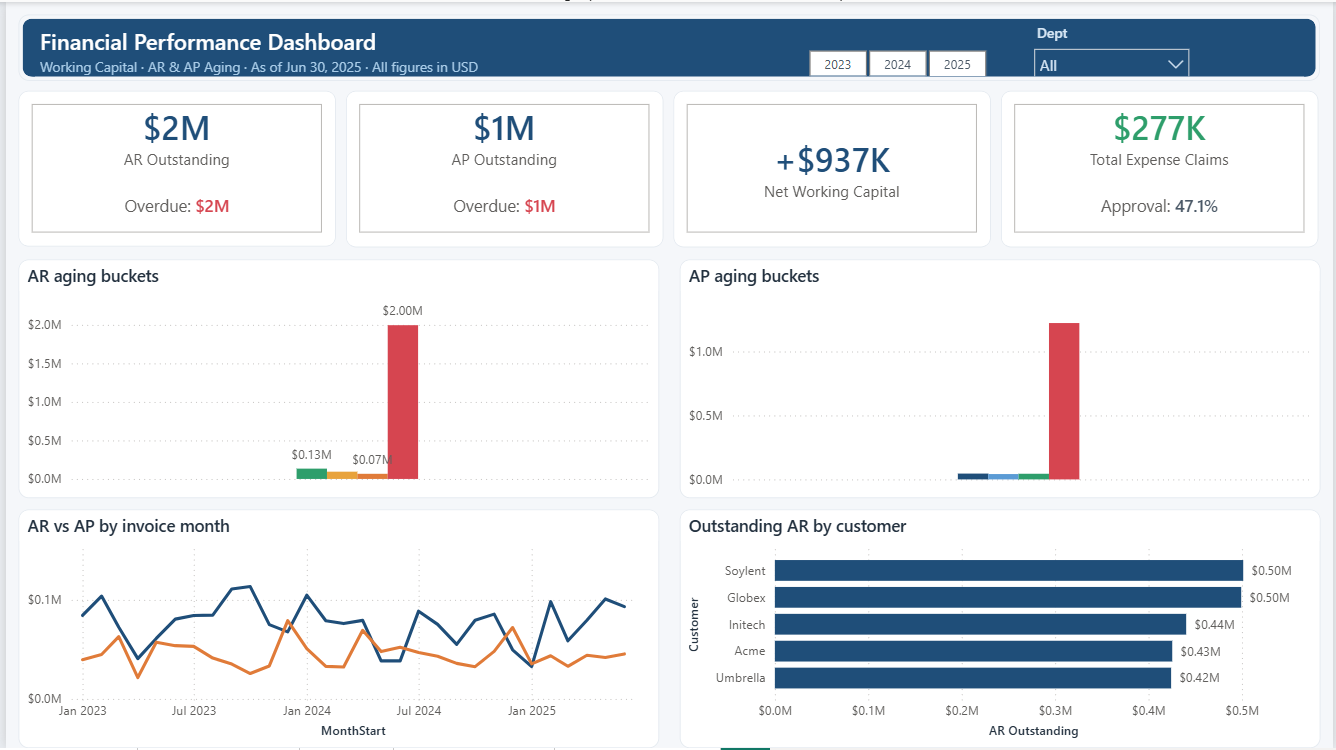

The dashboard page shown, as its layout file describes it:
{"tool":"powerbi","page":{"name":"Working Capital","canvas":[1280,720],"ordinal":3},"visuals":[{"type":"shape","box":[12,12,1256,64],"z":0},{"type":"textbox","box":[28,18,500,44],"z":1000},{"type":"slicer","fields":{"Values":["Dim_Date.Year"]},"box":[749.2,39.8,220.9,31.6],"z":2000},{"type":"textbox","box":[28,48,560,30],"z":3000},{"type":"slicer","fields":{"Values":["Dim_Department.Dept"]},"box":[982.5,15.1,170.2,56.3],"z":4000},{"type":"cardVisual","fields":{"Data":["Fact_AR.AR Outstanding"]},"box":[12.3,86,306,150],"z":5000},{"type":"cardVisual","fields":{"Data":["Fact_AP.AP Outstanding"]},"box":[328,86,306,150.9],"z":6000},{"type":"cardVisual","fields":{"Data":["Fact_AR.Net Working Capital"]},"box":[644,86,306,150.9],"z":7000},{"type":"cardVisual","fields":{"Data":["Fact_Expenses.Total Expense Claims"]},"box":[960,86,306,150.9],"z":8000},{"type":"clusteredColumnChart","title":"AR aging buckets","fields":{"Y":["Fact_AR.AR Aging Current","Fact_AR.AR Aging 1-30","Fact_AR.AR Aging 31-60","Fact_AR.AR Aging 60+"]},"box":[12,248,618,230],"z":9000},{"type":"clusteredColumnChart","title":"AP aging buckets","fields":{"Y":["Fact_AP.AP Aging Current","Fact_AP.AP Aging 1-30","Fact_AP.AP Aging 31-60","Fact_AP.AP Aging 60+"]},"box":[650,248.5,618,230.4],"z":10000},{"type":"lineChart","title":"AR vs AP by invoice month","fields":{"Category":["Dim_Date.MonthStart"],"Y":["Fact_AR.AR Outstanding","Fact_AP.AP Outstanding"]},"box":[12,490,618,230],"z":11000},{"type":"clusteredBarChart","title":"Outstanding AR by customer","fields":{"Category":["Dim_Customer.Customer"],"Y":["Fact_AR.AR Outstanding"]},"box":[650,490,618,230],"z":12000}]}

Visuals, with their boxes in screenshot pixels (x1, y1, x2, y2), scaled from the page's 1280x720 canvas onto the 1336x750 screenshot:
shape: box(13, 12, 1323, 79)
textbox: box(29, 19, 551, 65)
slicer - Dim_Date.Year: box(782, 41, 1013, 74)
textbox: box(29, 50, 614, 81)
slicer - Dim_Department.Dept: box(1025, 16, 1203, 74)
cardVisual - Fact_AR.AR Outstanding: box(13, 90, 332, 246)
cardVisual - Fact_AP.AP Outstanding: box(342, 90, 662, 247)
cardVisual - Fact_AR.Net Working Capital: box(672, 90, 992, 247)
cardVisual - Fact_Expenses.Total Expense Claims: box(1002, 90, 1321, 247)
"AR aging buckets" clusteredColumnChart: box(13, 258, 658, 498)
"AP aging buckets" clusteredColumnChart: box(678, 259, 1323, 499)
"AR vs AP by invoice month" lineChart: box(13, 510, 658, 749)
"Outstanding AR by customer" clusteredBarChart: box(678, 510, 1323, 749)
